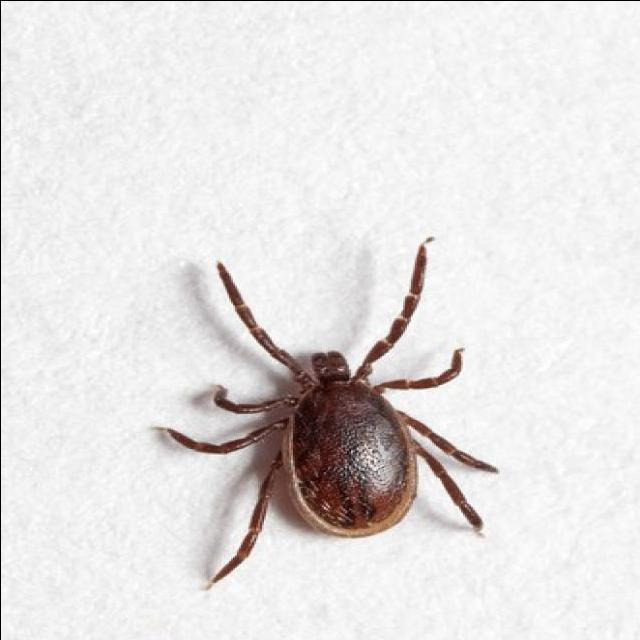Ixodes Ricinus-M: (159, 236, 497, 586)
